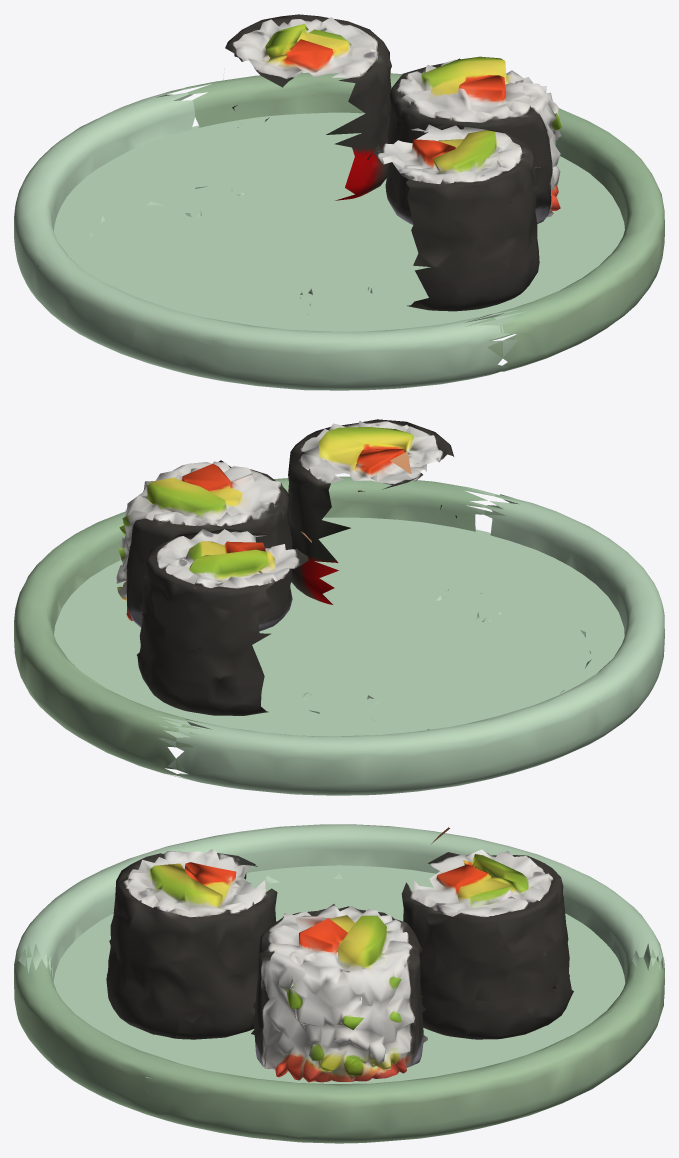
File: kitchen-sushi-maki-v1.glb
3 views of the same model, one above another, from view 1: azimuth 30°, elevation 25°; view 2: azimuth 150°, elevation 25°; view 3: azimuth 270°, elevation 25° (orthographic).
Visible parts, largest first — view 1: tripo_node_783e5694-cbc8-4d43-8ed6-85811a6177a9, Ceramic_interior_repair, Clean_rear_rim_from_Tripo_front; view 2: tripo_node_783e5694-cbc8-4d43-8ed6-85811a6177a9, Ceramic_interior_repair, Clean_rear_rim_from_Tripo_front; view 3: tripo_node_783e5694-cbc8-4d43-8ed6-85811a6177a9, Ceramic_interior_repair, Clean_rear_rim_from_Tripo_front.
Boxes of the visible parts, x1,y1,x2,y2 form: tripo_node_783e5694-cbc8-4d43-8ed6-85811a6177a9: (90,14,664,371); Ceramic_interior_repair: (54,112,624,339); Clean_rear_rim_from_Tripo_front: (14,85,528,390); tripo_node_783e5694-cbc8-4d43-8ed6-85811a6177a9: (14,419,591,776); Ceramic_interior_repair: (54,517,624,737); Clean_rear_rim_from_Tripo_front: (158,487,664,795); tripo_node_783e5694-cbc8-4d43-8ed6-85811a6177a9: (14,827,664,1143); Ceramic_interior_repair: (50,865,625,1083); Clean_rear_rim_from_Tripo_front: (14,824,664,994).
Bounding box in the file's own units: 1 × 0.3088 × 0.9987.
Materials: 2 (1 with a texture image).
